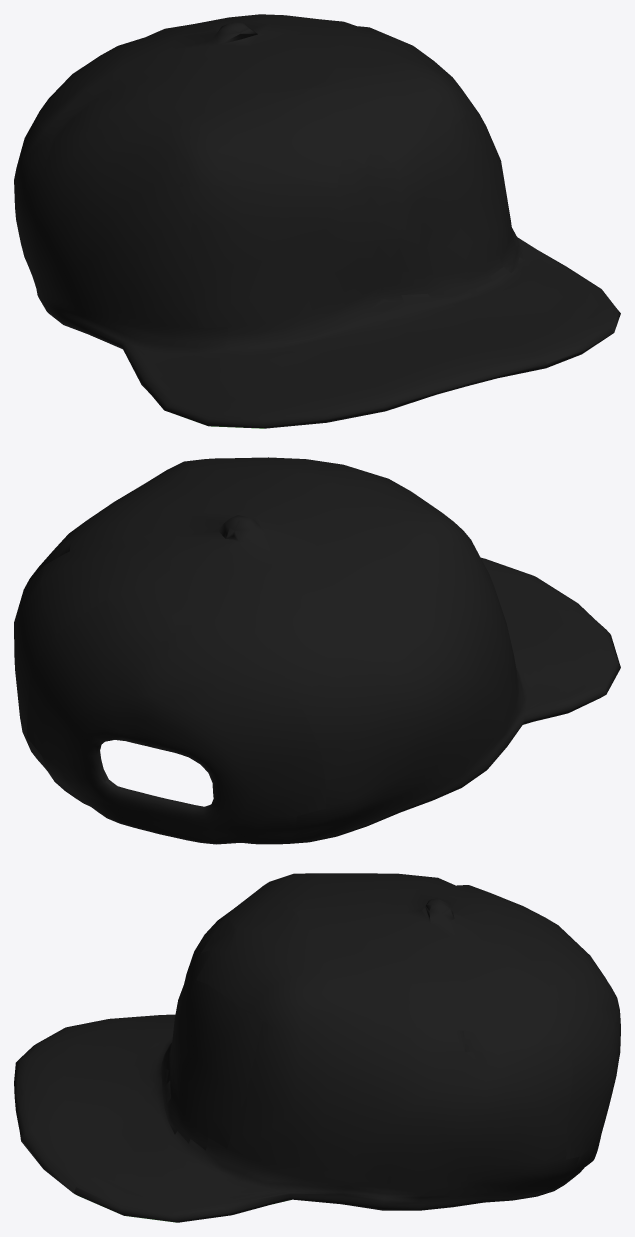
Rendered from Hat-Stealth-v2.glb.
3 renders of one model, top to bottom at view 1: azimuth 30°, elevation 25°; view 2: azimuth 150°, elevation 25°; view 3: azimuth 270°, elevation 25°, orthographic. The views are drawn at different scales.
Visible parts, largest first — view 1: Hat-Stealth-v2; view 2: Hat-Stealth-v2; view 3: Hat-Stealth-v2.
Part boxes in pixels (<box>): Hat-Stealth-v2: <box>14,14,620,428</box>; Hat-Stealth-v2: <box>14,457,620,844</box>; Hat-Stealth-v2: <box>14,873,620,1222</box>.
Size of the model in its own units: 0.4755 by 0.2566 by 0.589.
Materials: 1 (1 with a texture image).
